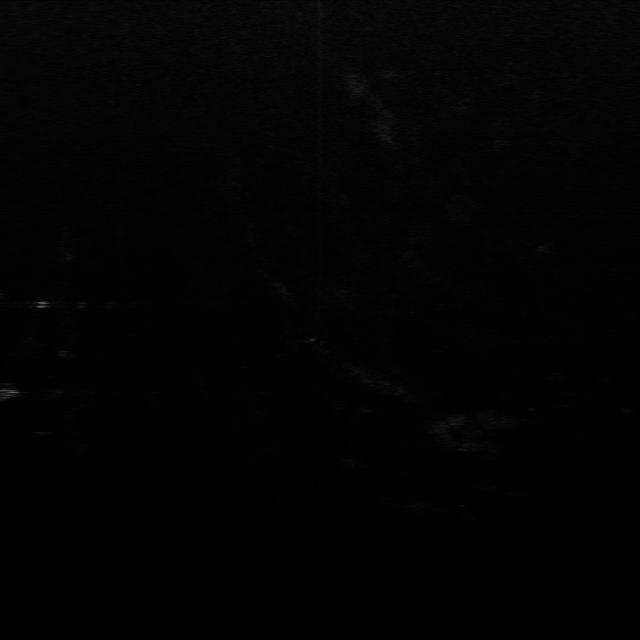rov: (0, 385, 18, 402)
